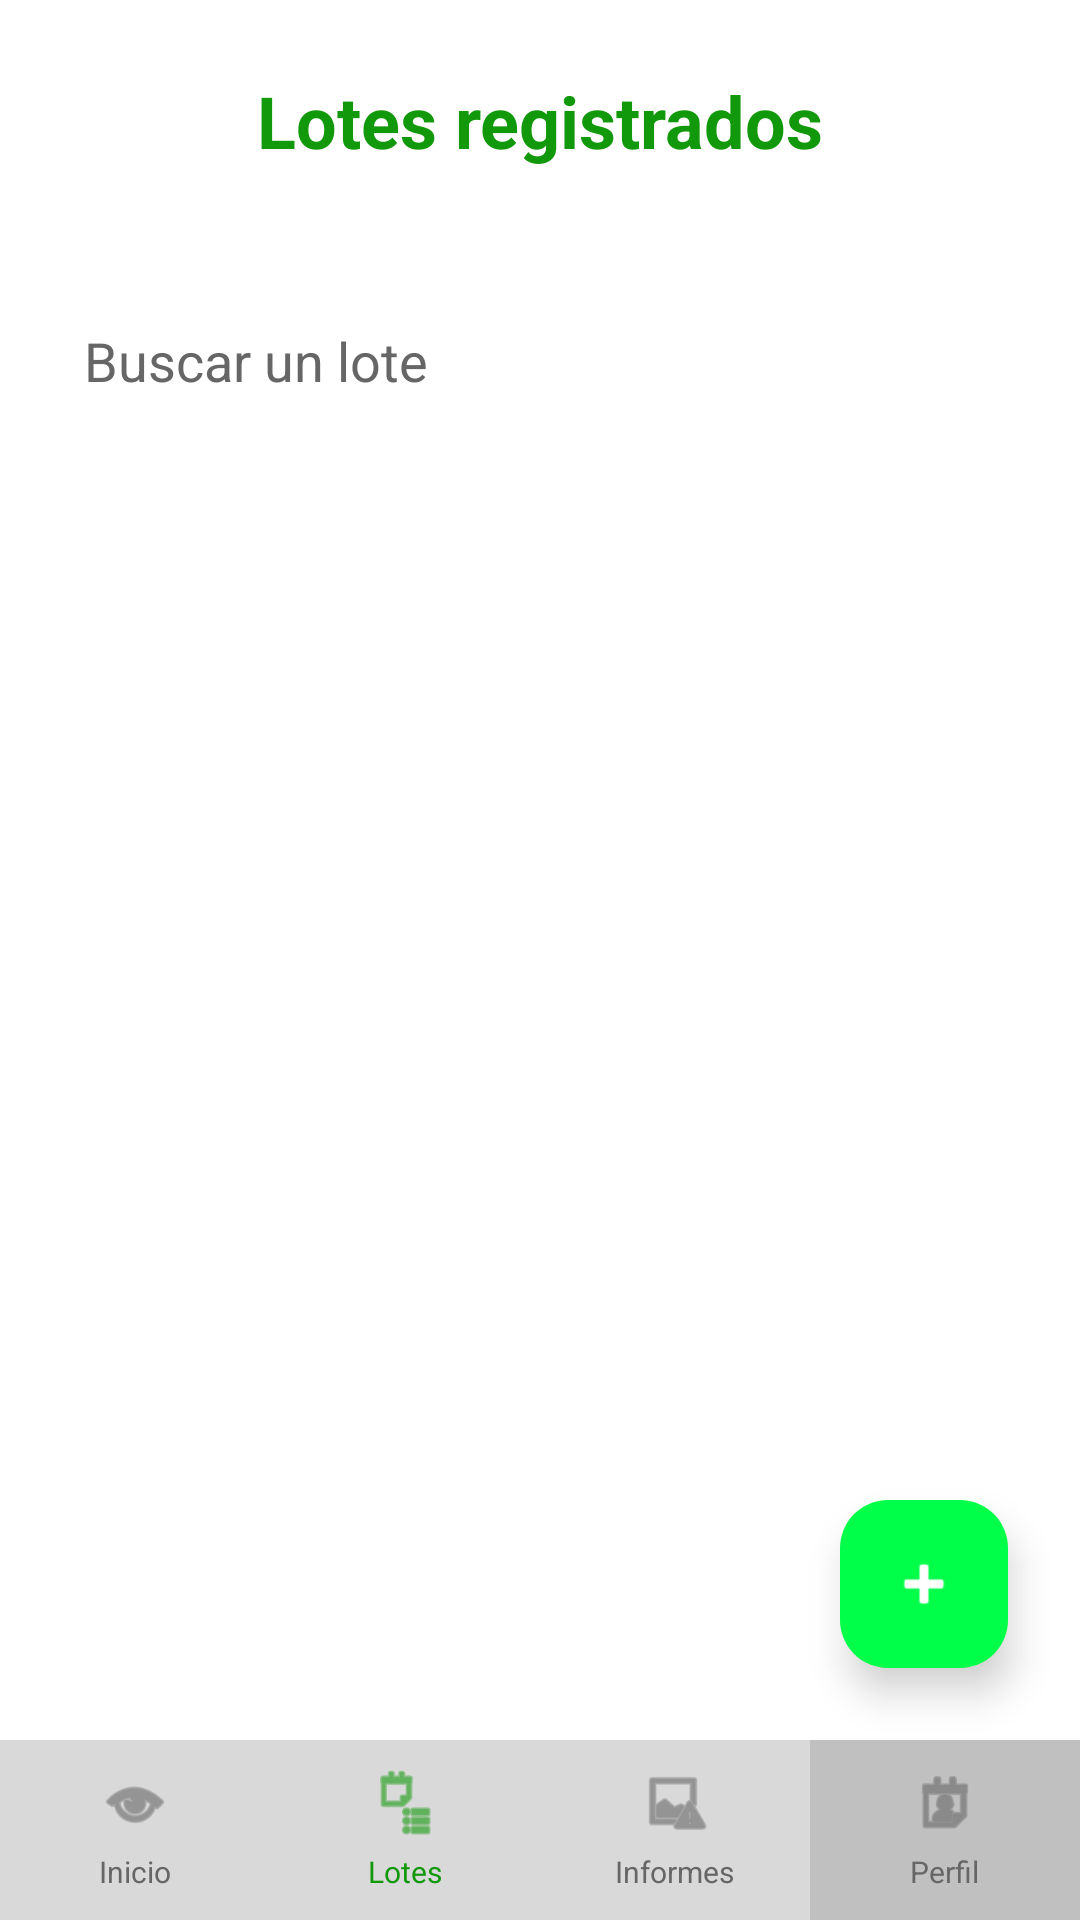

Where to tap for icons on this 1080*1920 app screen, as (x=x, y=y):
add: (x=924, y=1584)
agenda: (x=405, y=1803)
calendar: (x=945, y=1802)
view: (x=135, y=1805)
